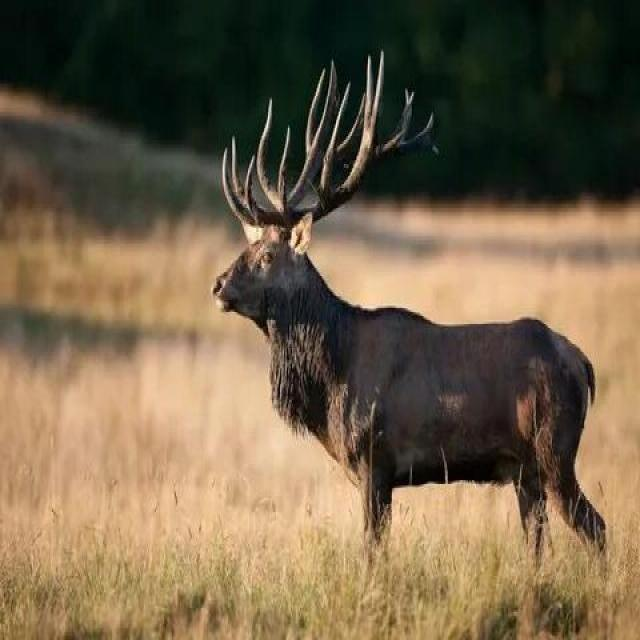deer: (182, 106, 618, 633)
